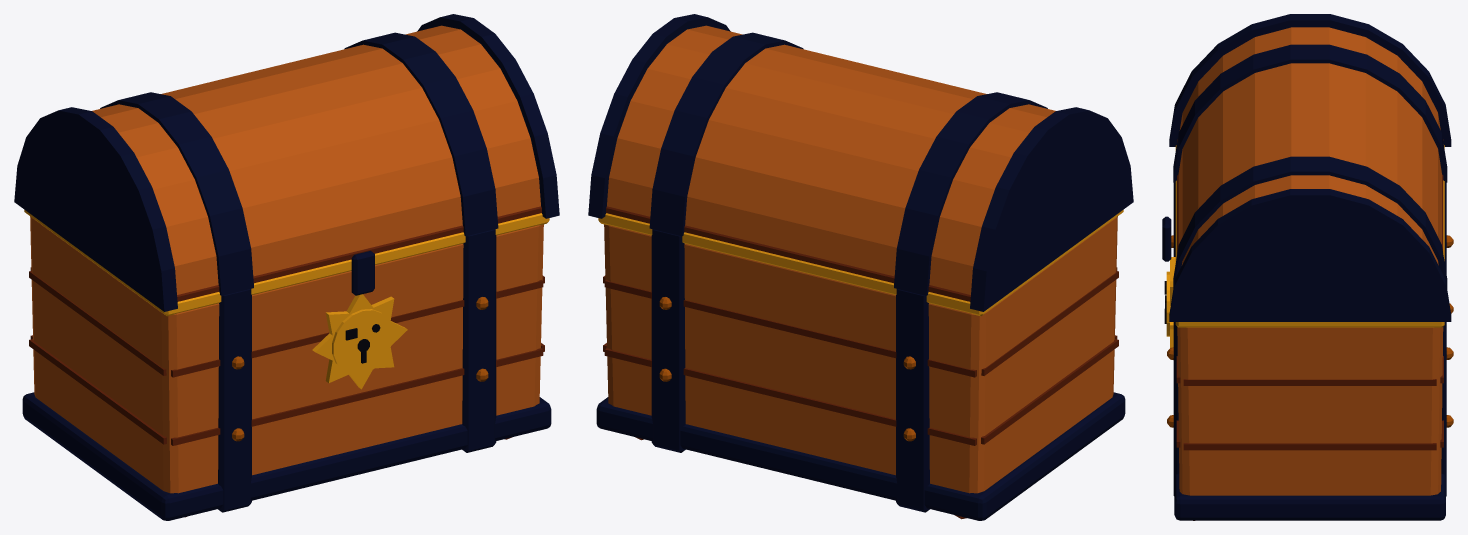
Rendered from tb_chest_small.three-web-toon.glb.
3 renders of one model, left to right at view 1: azimuth 30°, elevation 25°; view 2: azimuth 150°, elevation 25°; view 3: azimuth 270°, elevation 25°, orthographic. The views are drawn at different scales.
Visible parts, largest first — view 1: chest_body, chest_lid; view 2: chest_body, chest_lid; view 3: chest_lid, chest_body.
Boxes of the visible parts, x1=… form: chest_body: x1=22, y1=210, x2=551, y2=520; chest_lid: x1=14, y1=14, x2=559, y2=311; chest_body: x1=596, y1=210, x2=1125, y2=520; chest_lid: x1=588, y1=14, x2=1133, y2=311; chest_lid: x1=1162, y1=14, x2=1451, y2=321; chest_body: x1=1164, y1=145, x2=1453, y2=520.
Bounding box in the file's own units: 1.45 × 1.28 × 0.9844.
